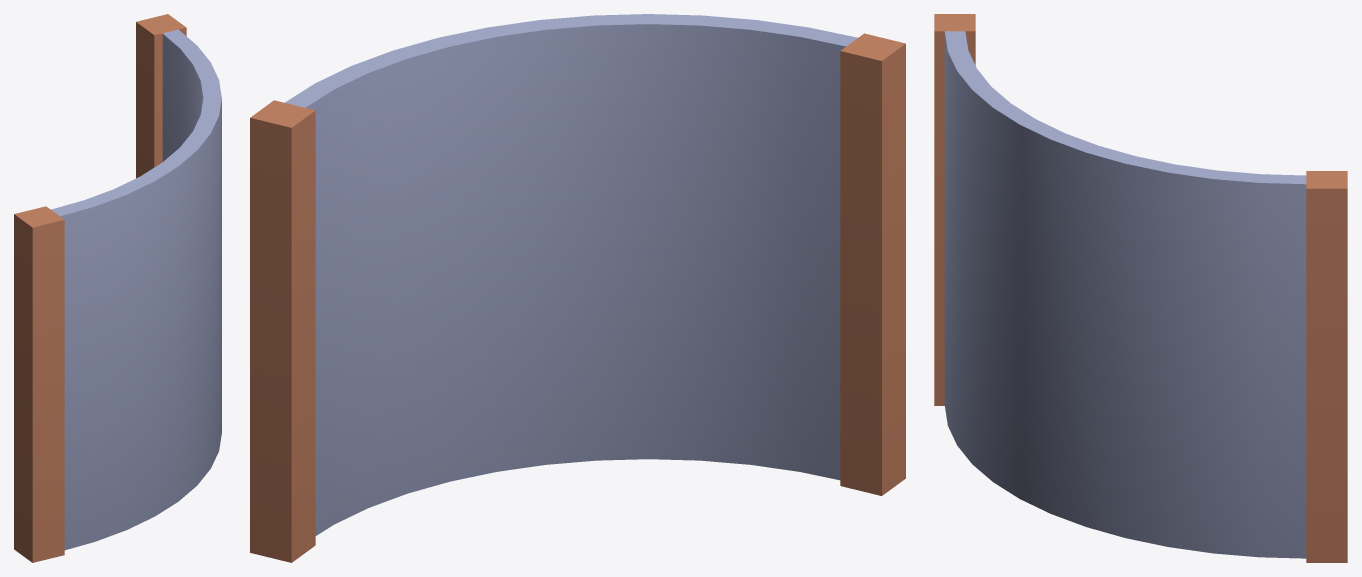
The model's file is wall_curved.glb.
3 views of the same model, side by side, from view 1: azimuth 30°, elevation 25°; view 2: azimuth 150°, elevation 25°; view 3: azimuth 270°, elevation 25° (orthographic). The views are drawn at different scales.
Parts seen in each view (by area): view 1: wall-curved; view 2: wall-curved; view 3: wall-curved.
Part boxes in pixels (bbox=[...]): wall-curved: bbox=[14, 14, 221, 562]; wall-curved: bbox=[250, 14, 905, 562]; wall-curved: bbox=[934, 14, 1347, 562].
Bounding box in the file's own units: 1 × 1 × 1.
Materials: 1 (1 with a texture image).
